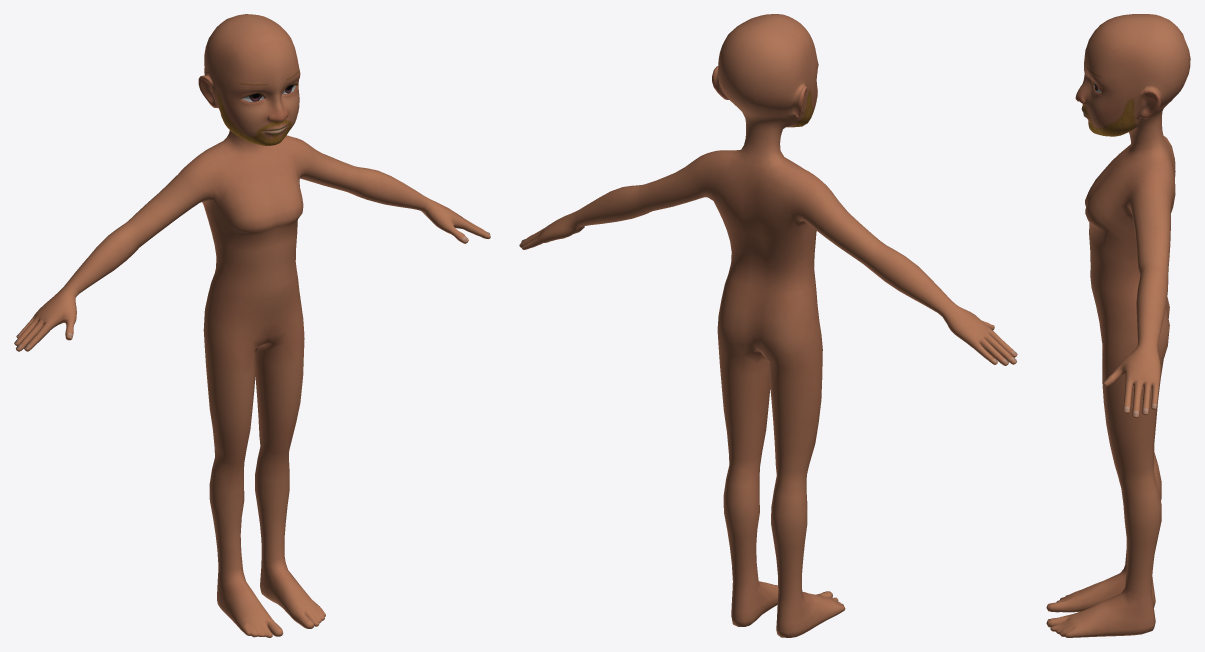
The model's file is frame_0075.glb.
3 renders of one model, left to right at view 1: azimuth 30°, elevation 25°; view 2: azimuth 150°, elevation 25°; view 3: azimuth 270°, elevation 25°, orthographic. The views are drawn at different scales.
Parts seen in each view (by area): view 1: frame_0075_head_geo; view 2: frame_0075_head_geo; view 3: frame_0075_head_geo.
Boxes of the visible parts, bbox=[...] form: frame_0075_head_geo: bbox=[14, 14, 490, 637]; frame_0075_head_geo: bbox=[519, 14, 1017, 637]; frame_0075_head_geo: bbox=[1046, 14, 1190, 637].
Bounding box in the file's own units: 1.28 × 1.5 × 0.3253.
3 materials, 3 textured.
